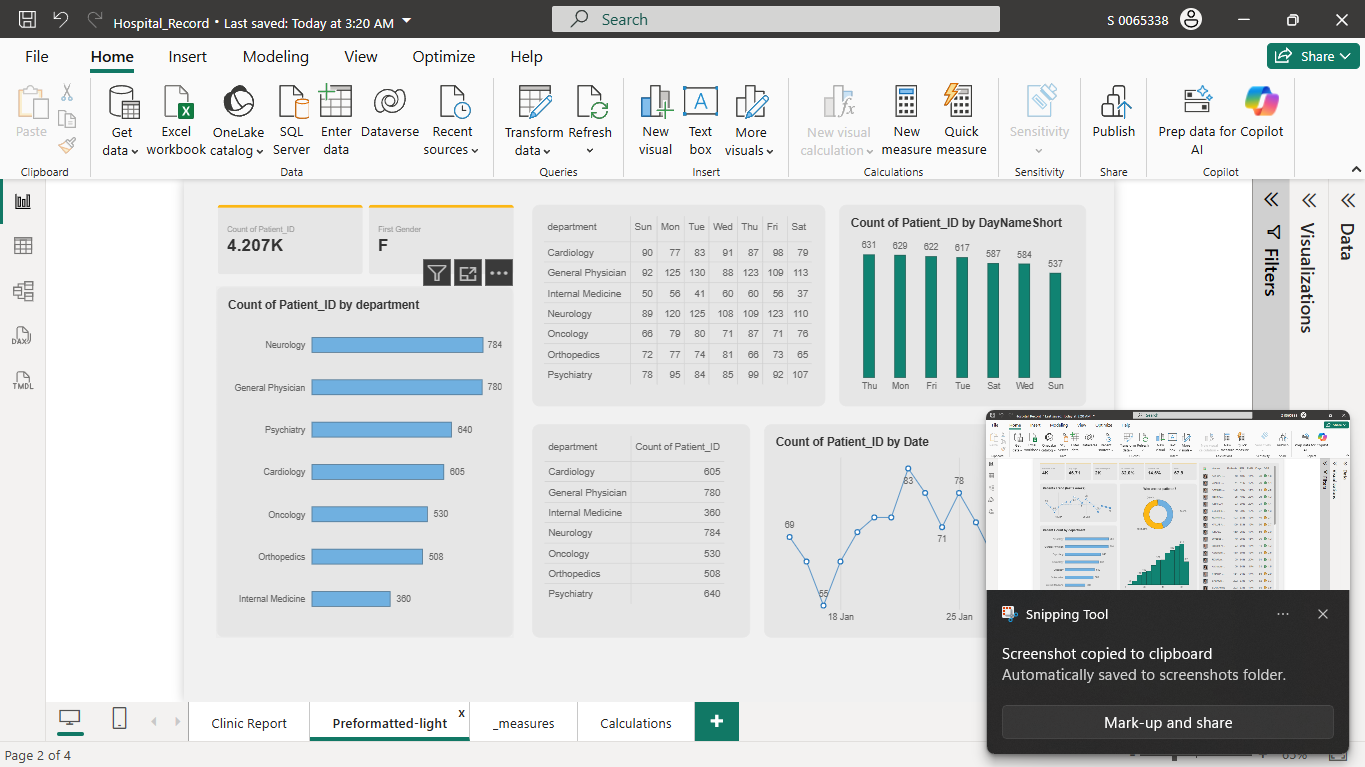

The page's visual inventory and layout, read from the dashboard file:
{"tool":"powerbi","page":{"name":"Preformatted-light","canvas":[1280,720],"ordinal":1},"visuals":[{"type":"cardVisual","fields":{"Data":["Count(patients.Patient_ID)","Min(patients.Gender)"]},"box":[46,36,408,96],"z":0},{"type":"clusteredBarChart","fields":{"Category":["doctors.department"],"Y":["CountNonNull(patients.Patient_ID)"]},"box":[44,148.4,409.3,482.7],"z":1000},{"type":"pivotTable","fields":{"Rows":["doctors.department"],"Values":["Count(patients.Patient_ID)"],"Columns":["calendar.DayNameShort"]},"box":[480,36,404,278],"z":2000},{"type":"tableEx","fields":{"Values":["doctors.department","Count(patients.Patient_ID)"]},"box":[480,337.8,300,293.3],"z":3000},{"type":"clusteredColumnChart","fields":{"Y":["CountNonNull(patients.Patient_ID)"],"Category":["calendar.DayNameShort"]},"box":[902.2,35.6,340,277.8],"z":4000},{"type":"lineChart","fields":{"Category":["calendar.Date"],"Y":["CountNonNull(patients.Patient_ID)"]},"box":[798.9,337.8,443.3,293.3],"z":6000}]}

Visuals, with their boxes on the page's 1280x720 design canvas (x1, y1, x2, y2). These are canvas units, not pixel positions in the 1365x767 screenshot, which may show the page scaled, cropped or inside an application window:
cardVisual - Count(patients.Patient_ID) x Min(patients.Gender): x1=46, y1=36, x2=454, y2=132
clusteredBarChart - doctors.department x CountNonNull(patients.Patient_ID): x1=44, y1=148, x2=453, y2=631
pivotTable - doctors.department x Count(patients.Patient_ID): x1=480, y1=36, x2=884, y2=314
tableEx - doctors.department x Count(patients.Patient_ID): x1=480, y1=338, x2=780, y2=631
clusteredColumnChart - CountNonNull(patients.Patient_ID) x calendar.DayNameShort: x1=902, y1=36, x2=1242, y2=313
lineChart - calendar.Date x CountNonNull(patients.Patient_ID): x1=799, y1=338, x2=1242, y2=631
